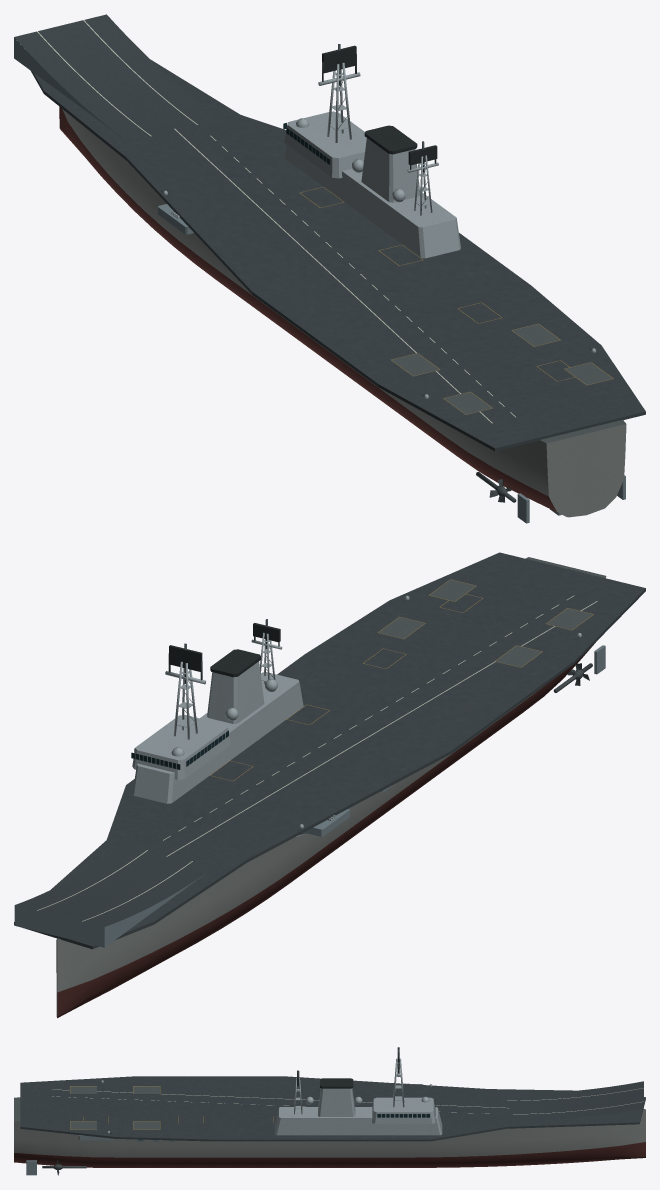
Rendered from wings_admiral_kuznetsov_project1143_5.glb.
3 renders of one model, top to bottom at view 1: azimuth 30°, elevation 25°; view 2: azimuth 150°, elevation 25°; view 3: azimuth 270°, elevation 25°, orthographic. The views are drawn at different scales.
Parts seen in each view (by area): view 1: static_hull_deck_superstructure; view 2: static_hull_deck_superstructure; view 3: static_hull_deck_superstructure.
Boxes of the visible parts, x1,y1,x2,y2 form: static_hull_deck_superstructure: [14, 14, 645, 523]; static_hull_deck_superstructure: [14, 552, 645, 1018]; static_hull_deck_superstructure: [14, 1047, 645, 1175].
Bounding box in the file's own units: 72 × 71.26 × 304.
Materials: 1 (1 with a texture image).
